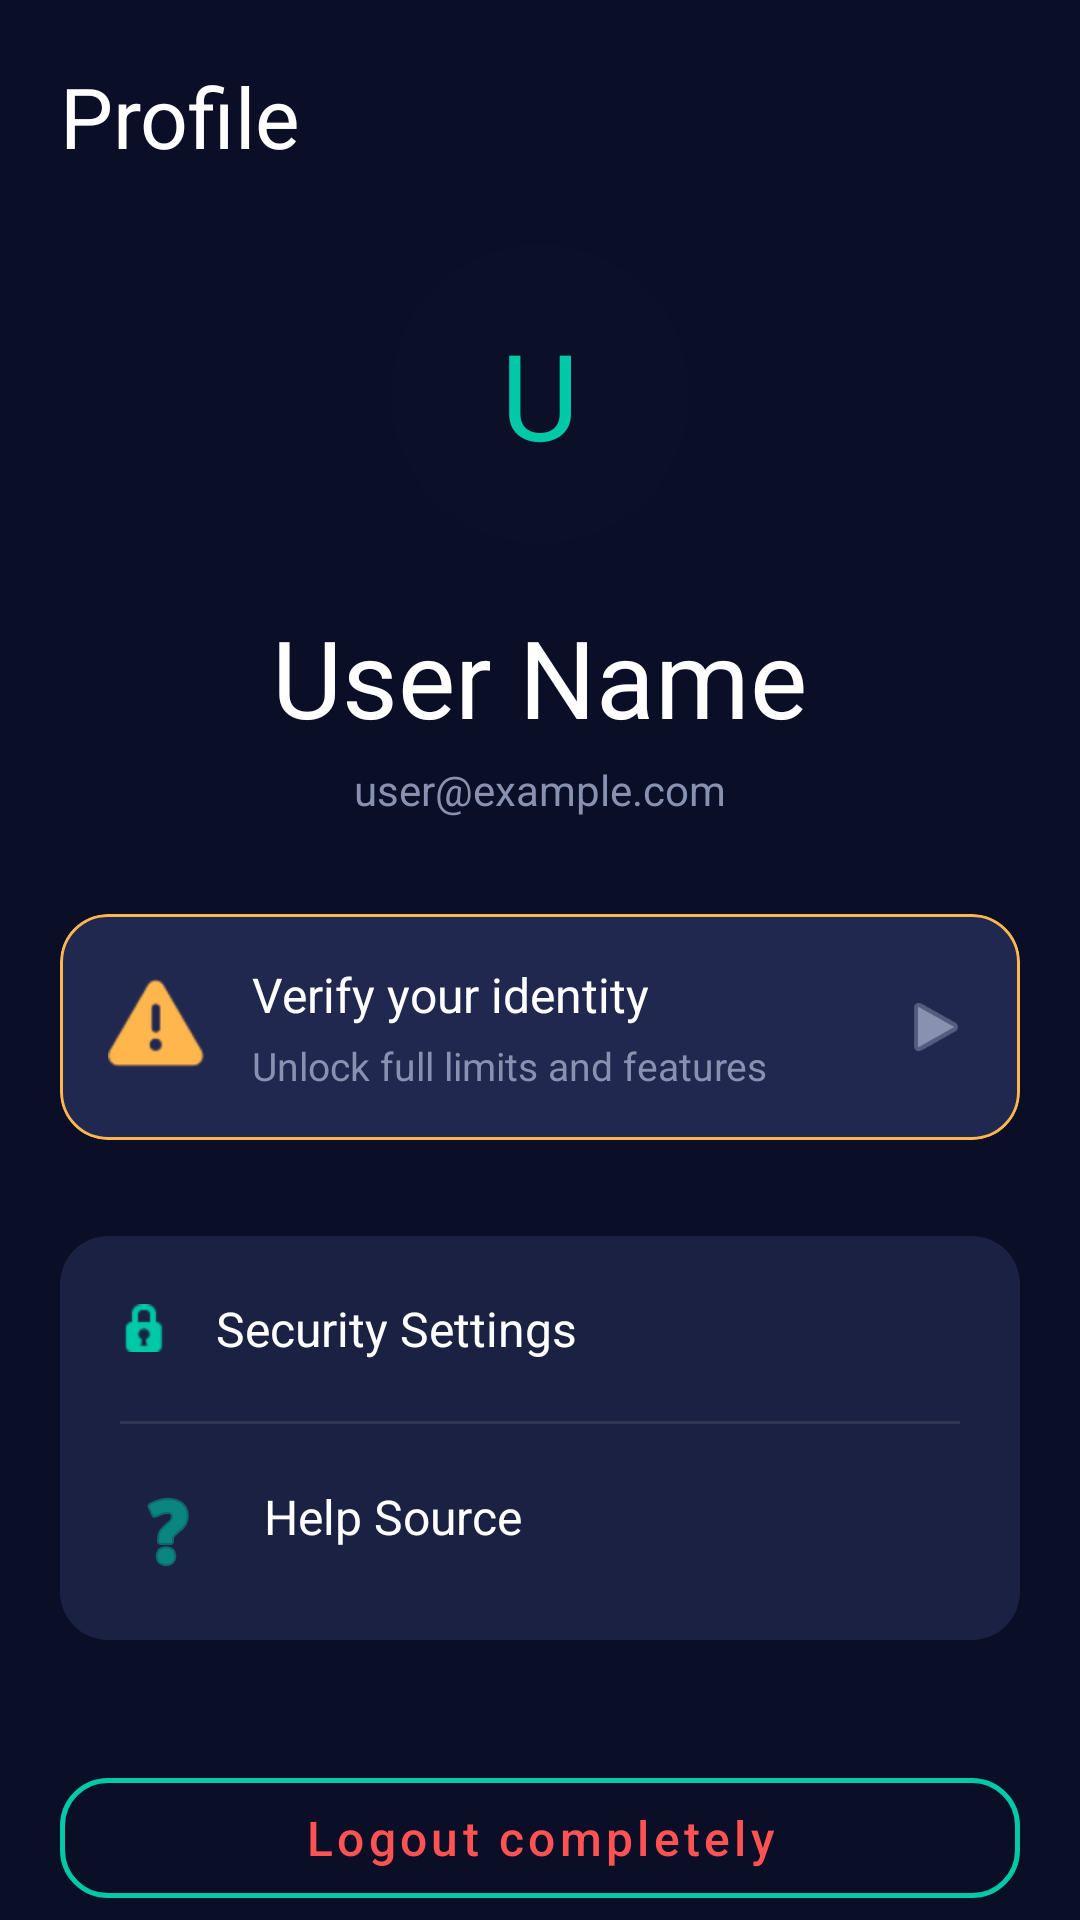

Named icons in this screenshot (1080w x 1920h) and their centers, (x=x, y=y):
alert: (x=156, y=1023)
play: (x=936, y=1027)
